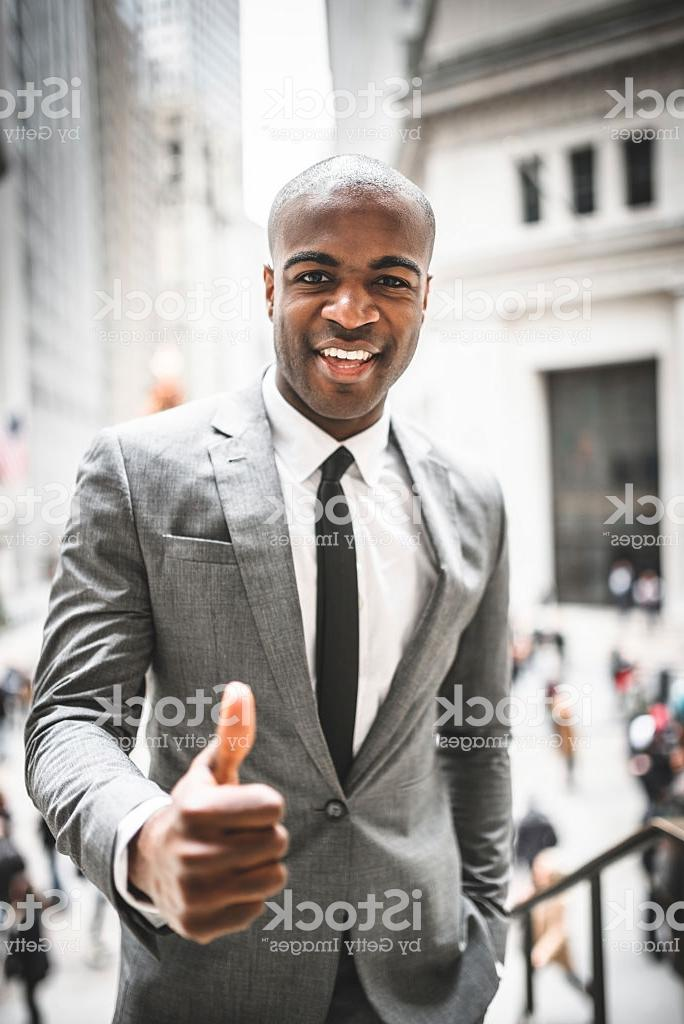thumbsup: (156, 680, 297, 954)
